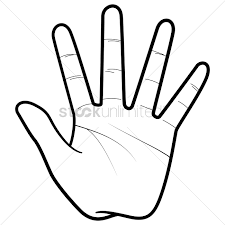palm: (75, 105, 163, 219)
